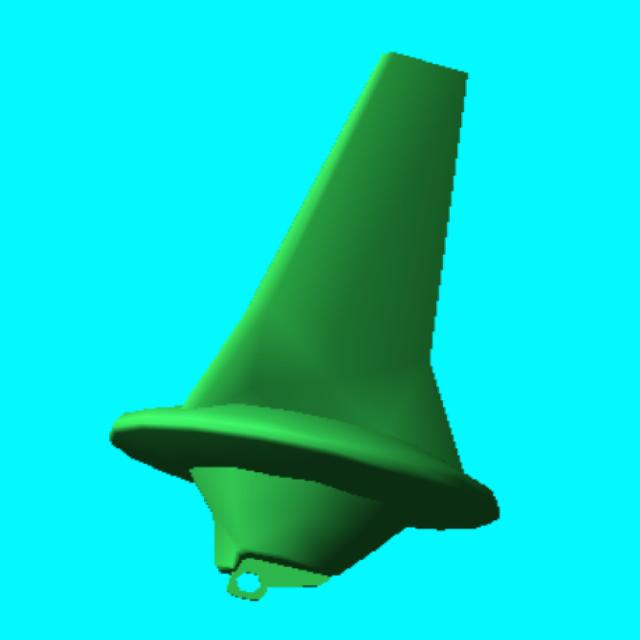GreenBuoy: (113, 54, 498, 599)
